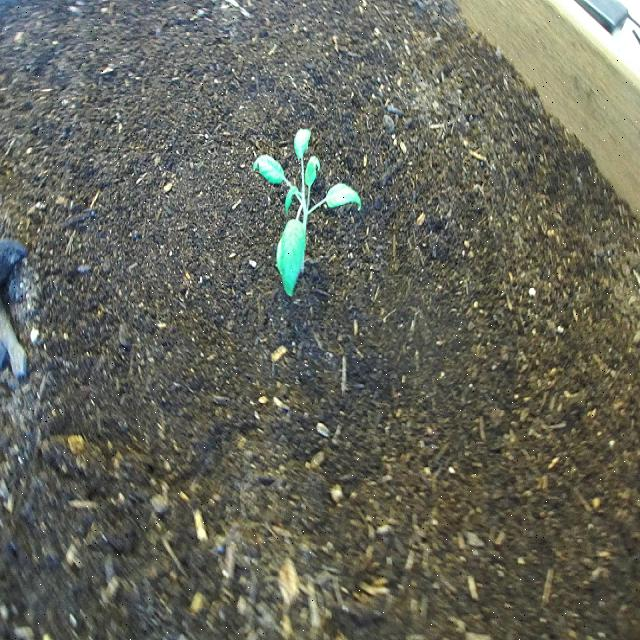Healthy: (245, 110, 365, 308)
